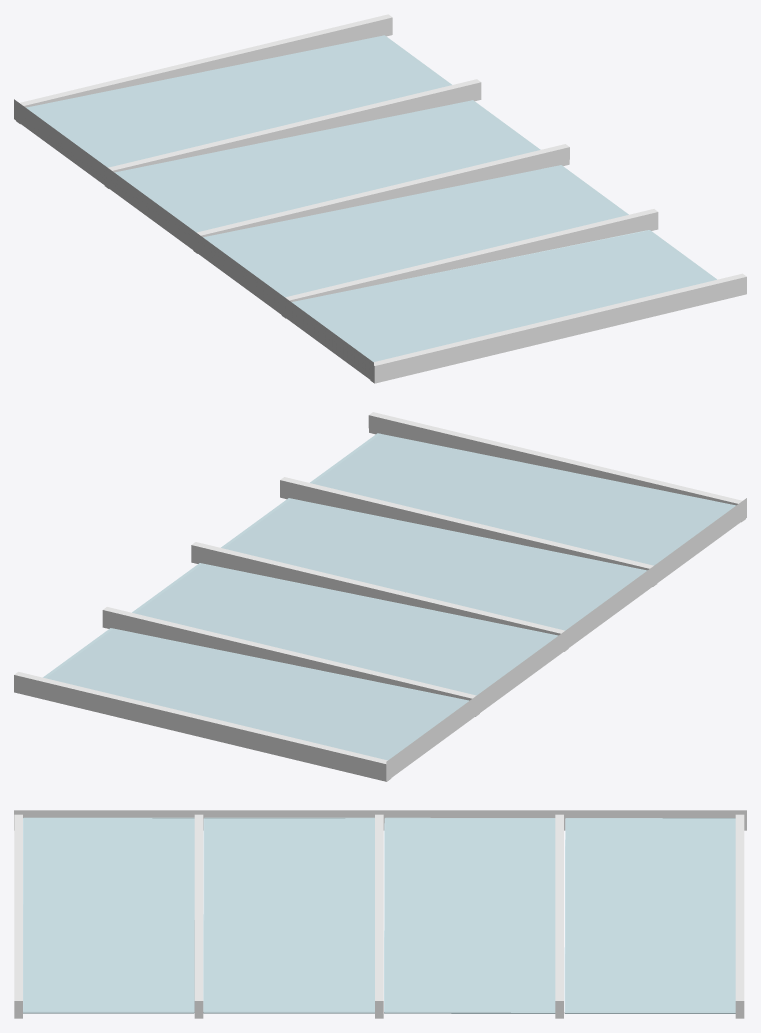
Rendered from flat_glass_white.glb.
The picture shows the model from 3 angles, top to bottom: view 1: azimuth 30°, elevation 25°; view 2: azimuth 150°, elevation 25°; view 3: azimuth 270°, elevation 25°; orthographic projection.
Visible parts, largest first — view 1: roof, Rafter, Plane.001; view 2: roof, Rafter, Plane.001; view 3: roof, Rafter, Plane.001.
Boxes of the visible parts, x1=… form: roof: x1=26, y1=35, x2=716, y2=362; Rafter: x1=16, y1=14, x2=746, y2=383; Plane.001: x1=14, y1=99, x2=373, y2=382; roof: x1=43, y1=433, x2=735, y2=760; Rafter: x1=14, y1=412, x2=745, y2=781; Plane.001: x1=386, y1=498, x2=746, y2=781; roof: x1=23, y1=817, x2=735, y2=1013; Rafter: x1=14, y1=814, x2=744, y2=1018; Plane.001: x1=14, y1=810, x2=746, y2=830.
Bounding box in the file's own units: 2.99 × 0.1748 × 5.
